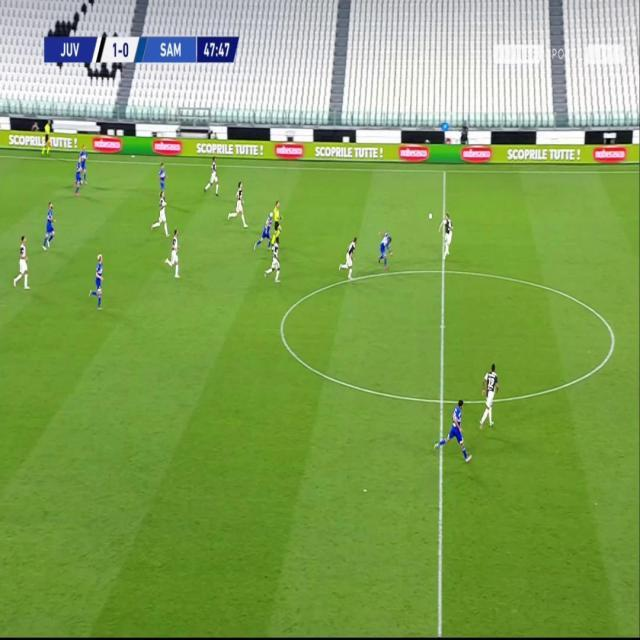ball: (427, 211, 433, 221)
player: (434, 397, 473, 463), (478, 362, 499, 431), (12, 233, 32, 293), (227, 179, 248, 228), (89, 251, 105, 311), (339, 233, 359, 281), (164, 228, 182, 281), (254, 210, 273, 254), (265, 236, 282, 285), (42, 200, 57, 252), (438, 213, 454, 259), (151, 191, 168, 234), (204, 153, 220, 198), (378, 231, 394, 271), (157, 161, 168, 201), (79, 145, 89, 186), (74, 155, 83, 196)
referee: (271, 199, 284, 249), (42, 118, 54, 156)
